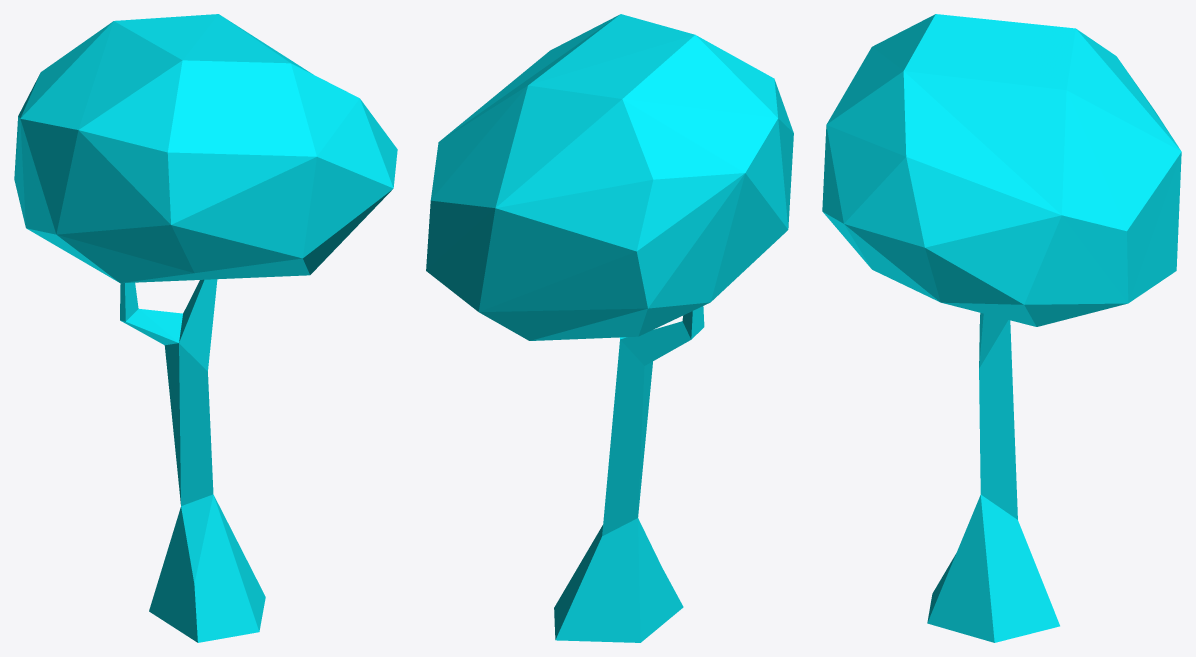
File: forestpack_tree_1_leaf_1_meshCollider.FBX
3 renders of one model, left to right at view 1: azimuth 30°, elevation 25°; view 2: azimuth 150°, elevation 25°; view 3: azimuth 270°, elevation 25°, orthographic. The views are drawn at different scales.
Parts seen in each view (by area): view 1: forestpack_tree_1_leaf_1_meshCollider; view 2: forestpack_tree_1_leaf_1_meshCollider; view 3: forestpack_tree_1_leaf_1_meshCollider.
Boxes of the visible parts, x1,y1,x2,y2 form: forestpack_tree_1_leaf_1_meshCollider: [14, 14, 397, 642]; forestpack_tree_1_leaf_1_meshCollider: [426, 14, 793, 642]; forestpack_tree_1_leaf_1_meshCollider: [822, 14, 1181, 642].
Bounding box in the file's own units: 136 × 232 × 132.
